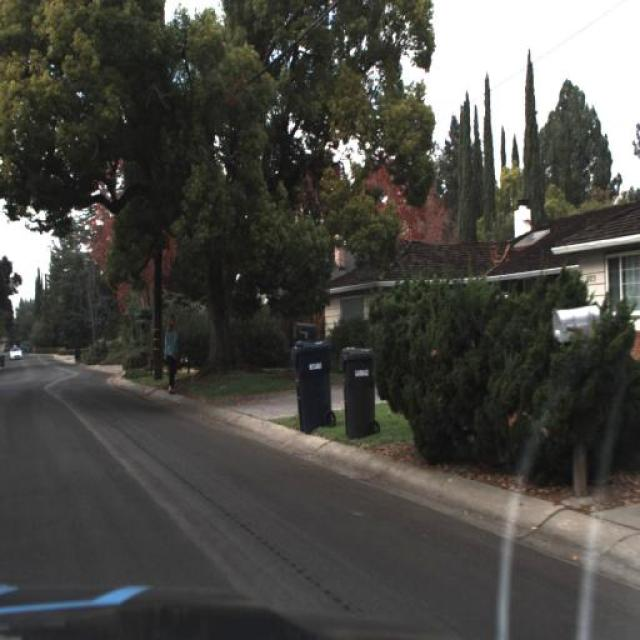car: (7, 339, 27, 368)
trafficLight: (164, 311, 182, 397)
